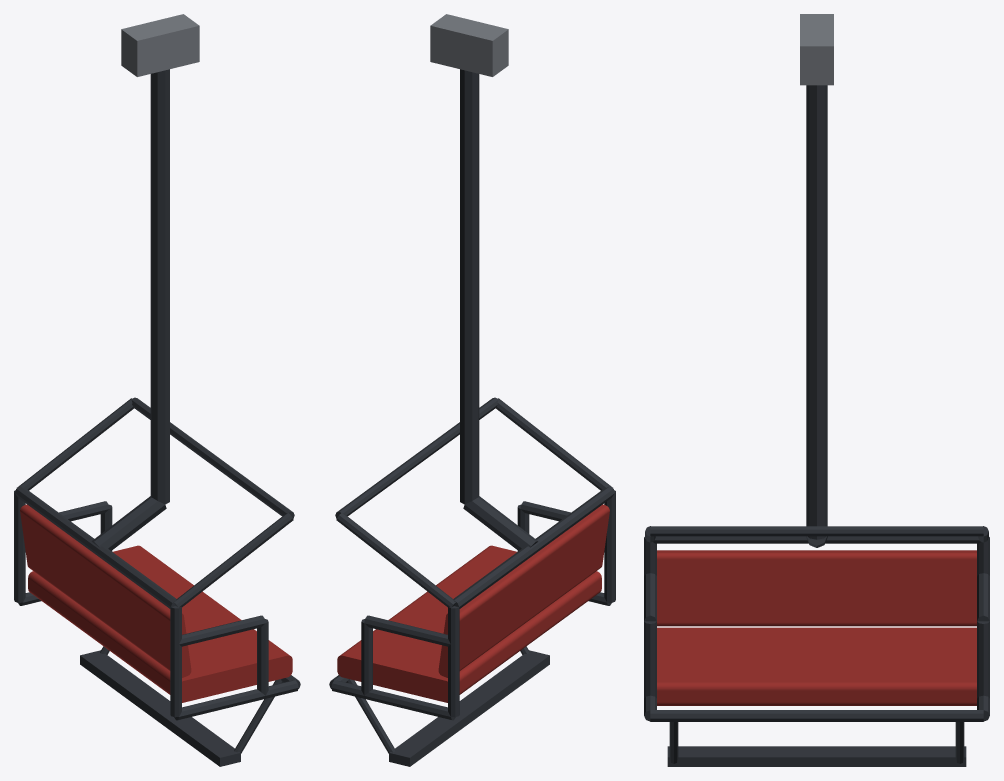
Rendered from chair.obj.
3 renders of one model, left to right at view 1: azimuth 30°, elevation 25°; view 2: azimuth 150°, elevation 25°; view 3: azimuth 270°, elevation 25°, orthographic. The views are drawn at different scales.
Size of the model in its own units: 0.75 by 3.78 by 1.62.
